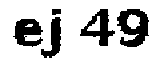4: (76, 5, 115, 48)
9: (115, 5, 151, 52)
e: (8, 15, 44, 48)
j: (41, 8, 71, 60)
